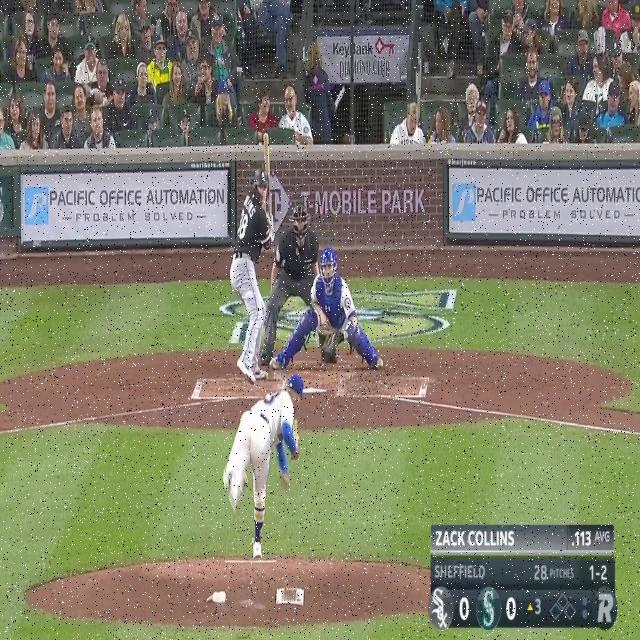baseball: (245, 288, 254, 302)
